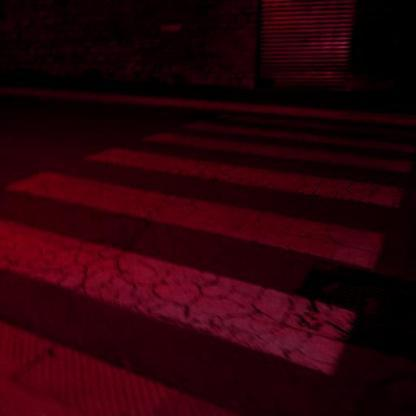crosswalk: (1, 144, 409, 274)
